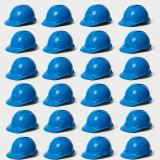Helmet: (119, 109, 153, 134), (80, 56, 113, 81), (5, 56, 39, 80), (5, 109, 39, 133), (42, 30, 76, 54), (42, 109, 76, 133), (80, 83, 114, 107), (80, 109, 114, 133), (41, 4, 74, 28), (119, 30, 152, 54), (119, 56, 152, 80), (119, 83, 152, 107), (81, 136, 114, 160), (5, 30, 38, 54), (80, 30, 113, 54), (42, 56, 75, 80), (42, 82, 75, 106), (79, 4, 113, 27), (6, 136, 38, 160), (6, 82, 38, 106), (5, 5, 38, 28), (118, 4, 151, 27), (43, 136, 76, 159), (120, 136, 152, 159)
